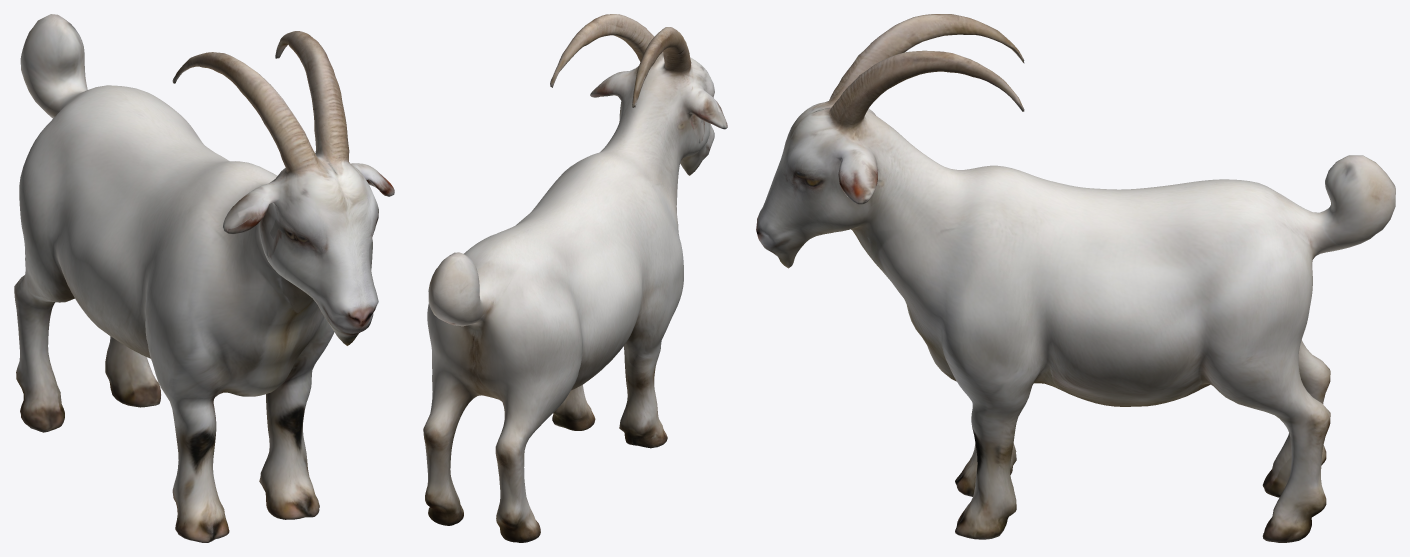
Rendered from a163_keci.glb.
3 renders of one model, left to right at view 1: azimuth 30°, elevation 25°; view 2: azimuth 150°, elevation 25°; view 3: azimuth 270°, elevation 25°, orthographic. The views are drawn at different scales.
Size of the model in its own units: 0.6309 by 1.66 by 1.99.
Materials: 1 (1 with a texture image).
